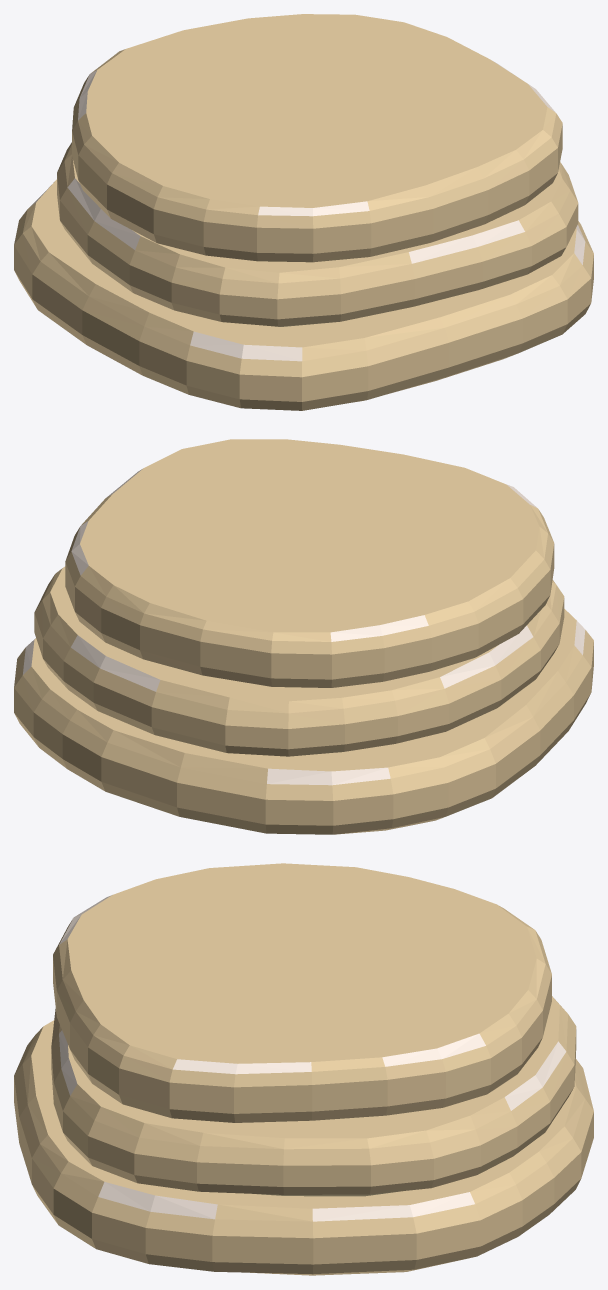
The model's file is rockBase.glb.
3 renders of one model, top to bottom at view 1: azimuth 30°, elevation 25°; view 2: azimuth 150°, elevation 25°; view 3: azimuth 270°, elevation 25°, orthographic. The views are drawn at different scales.
Visible parts, largest first — view 1: rockBase; view 2: rockBase; view 3: rockBase.
Boxes of the visible parts, left/top/right/bottom form: rockBase: left=14, top=14, right=593, bottom=410; rockBase: left=14, top=439, right=593, bottom=834; rockBase: left=14, top=863, right=593, bottom=1275.
Bounding box in the file's own units: 1.6 × 0.6 × 1.6.
Materials: 1 (1 with a texture image).
